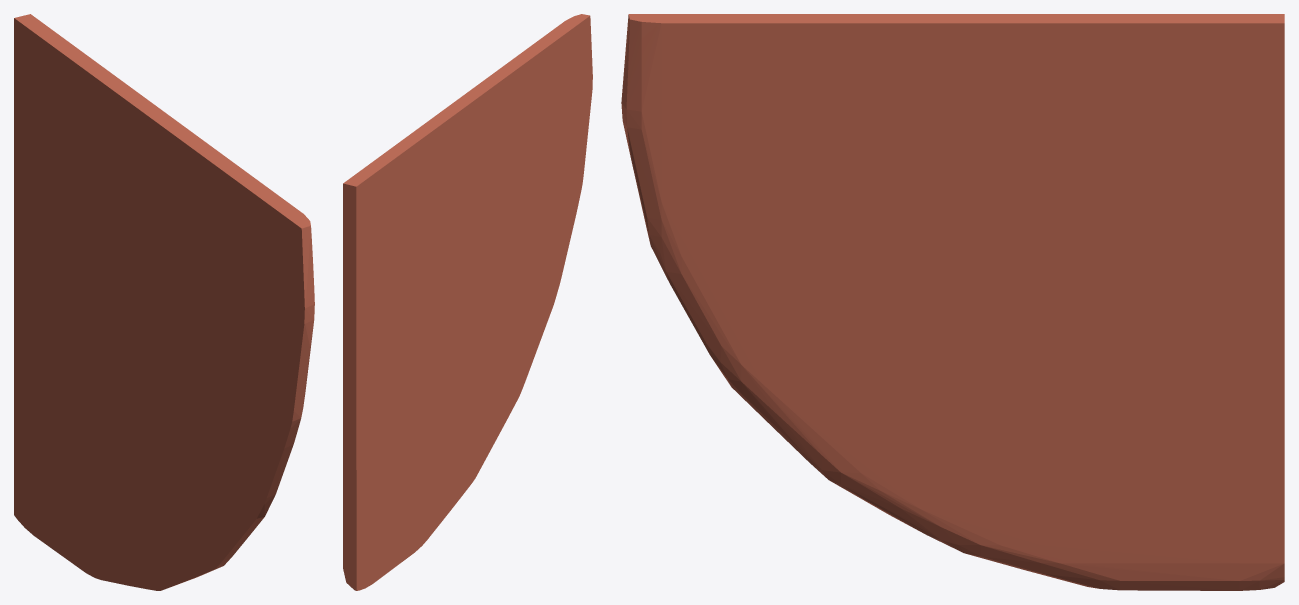
The model's file is right_f_proximal_part_9.obj.
The picture shows the model from 3 angles, left to right: view 1: azimuth 30°, elevation 25°; view 2: azimuth 150°, elevation 25°; view 3: azimuth 270°, elevation 25°; orthographic projection. The views are drawn at different scales.
Size of the model in its own units: 0.2736 by 7.93 by 8.31.
